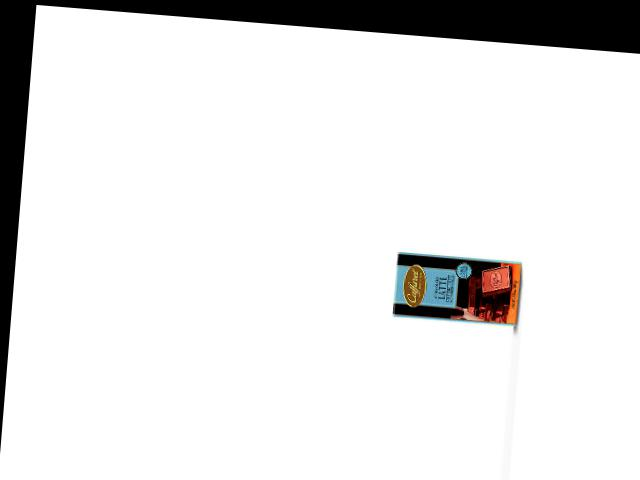chocolate: (391, 250, 523, 329)
